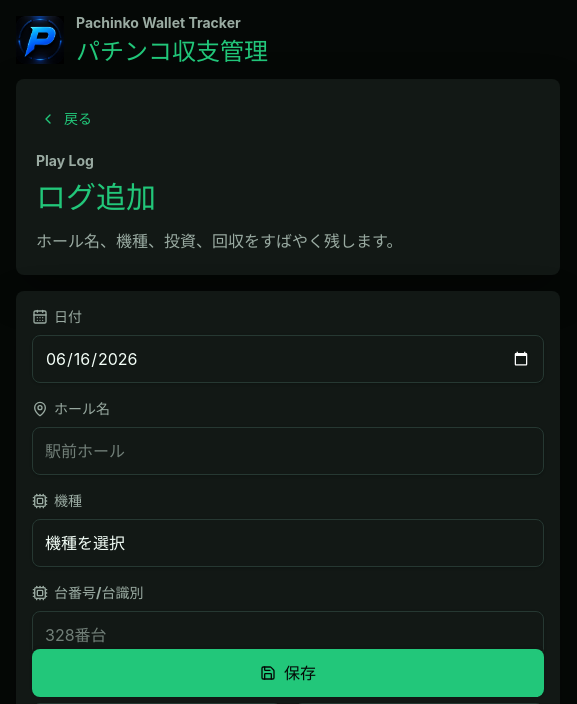
Scenario: log form › shows validation errors for missing required fields
The width and height of the screenshot is (577, 704).
Click the button "保存" at (288, 673), box [32,649,544,697]
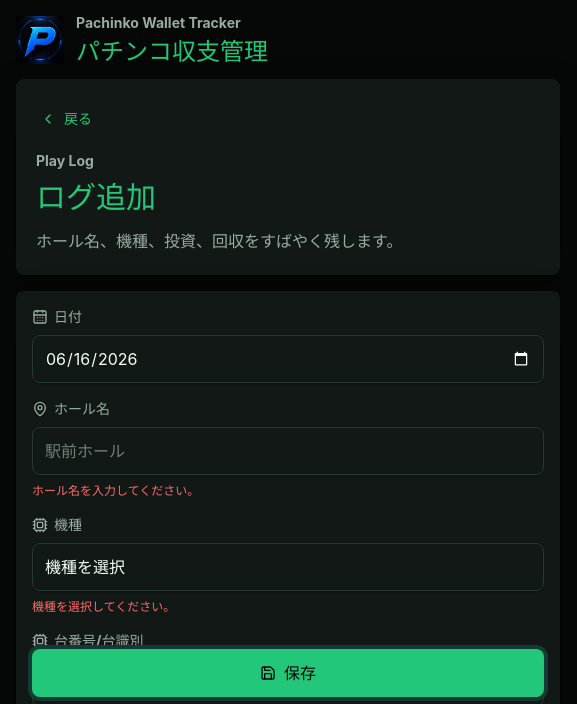
Check: the text "ホール名を入力してください。" is shown, box [32,483,199,498]
Check: the text "機種を選択してください。" is shown, box [32,599,175,614]
